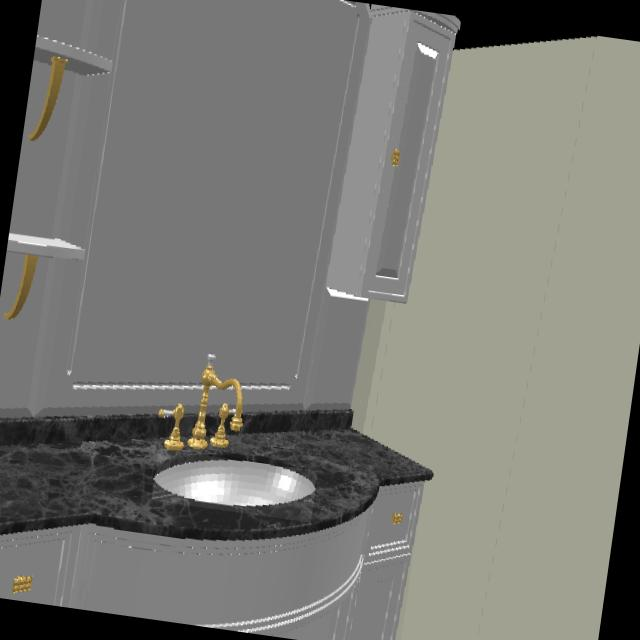cabinet: (0, 483, 423, 640)
washbasin: (154, 461, 315, 510)
